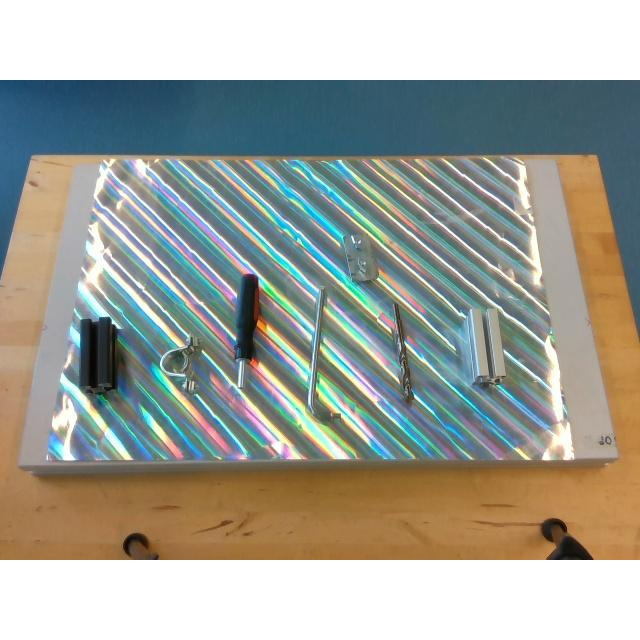AllenKey: (307, 286, 343, 422)
Drill: (392, 302, 414, 402)
Housing: (158, 336, 202, 390)
S40_40_B: (79, 316, 117, 392)
S40_40_G: (462, 308, 506, 384)
